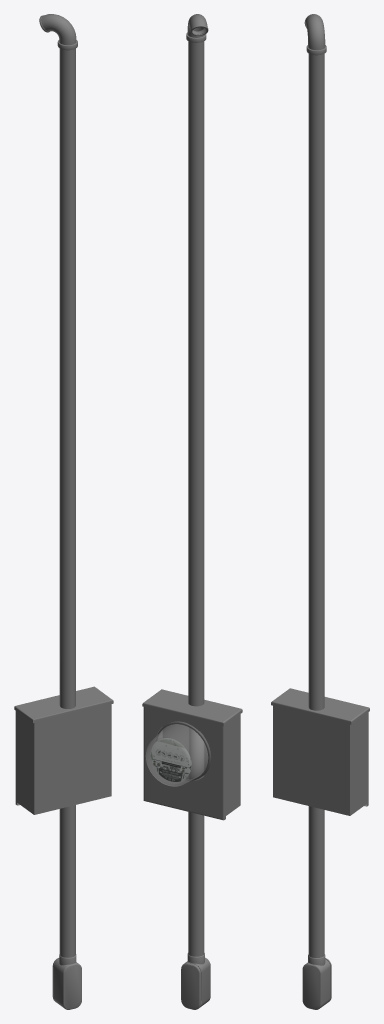
File: power_meter.glb
The picture shows the model from 3 angles, left to right: view 1: azimuth 30°, elevation 25°; view 2: azimuth 150°, elevation 25°; view 3: azimuth 330°, elevation 25°; orthographic projection.
Visible parts, largest first — view 1: lineconduit.001_Cylinder.002, powermeterhsing_Cube.185, powermeterhsing.001_Cube.189, lineconduit_Cylinder, powermeterhsing.003_Cube.191; view 2: lineconduit.001_Cylinder.002, powermeterhsing.003_Cube.191, meterglass_Cube.186, powermeterhsing_Cube.185, powermeterhsing.001_Cube.189, meterdials_Cube.188, Cylinder.001, lineconduit_Cylinder, meterring_Cube.187; view 3: lineconduit.001_Cylinder.002, powermeterhsing_Cube.185, powermeterhsing.001_Cube.189, lineconduit_Cylinder.
Part boxes in pixels (bbox=[...]): lineconduit.001_Cylinder.002: bbox=[39, 14, 77, 965]; powermeterhsing_Cube.185: bbox=[17, 704, 111, 814]; powermeterhsing.001_Cube.189: bbox=[14, 686, 113, 723]; lineconduit_Cylinder: bbox=[53, 959, 81, 1009]; powermeterhsing.003_Cube.191: bbox=[15, 711, 19, 805]; lineconduit.001_Cylinder.002: bbox=[186, 14, 208, 965]; powermeterhsing.003_Cube.191: bbox=[143, 707, 225, 820]; meterglass_Cube.186: bbox=[146, 724, 207, 786]; powermeterhsing_Cube.185: bbox=[156, 714, 240, 815]; powermeterhsing.001_Cube.189: bbox=[142, 689, 242, 726]; meterdials_Cube.188: bbox=[150, 738, 191, 781]; Cylinder.001: bbox=[181, 962, 200, 1009]; lineconduit_Cylinder: bbox=[185, 957, 210, 1007]; meterring_Cube.187: bbox=[155, 721, 211, 780]; lineconduit.001_Cylinder.002: bbox=[304, 14, 326, 965]; powermeterhsing_Cube.185: bbox=[273, 705, 366, 815]; powermeterhsing.001_Cube.189: bbox=[271, 688, 369, 724]; lineconduit_Cylinder: bbox=[302, 959, 330, 1009].
Bounding box in the file's own units: 0.1173 × 1.37 × 0.0846.
Materials: 4 (1 with a texture image).
